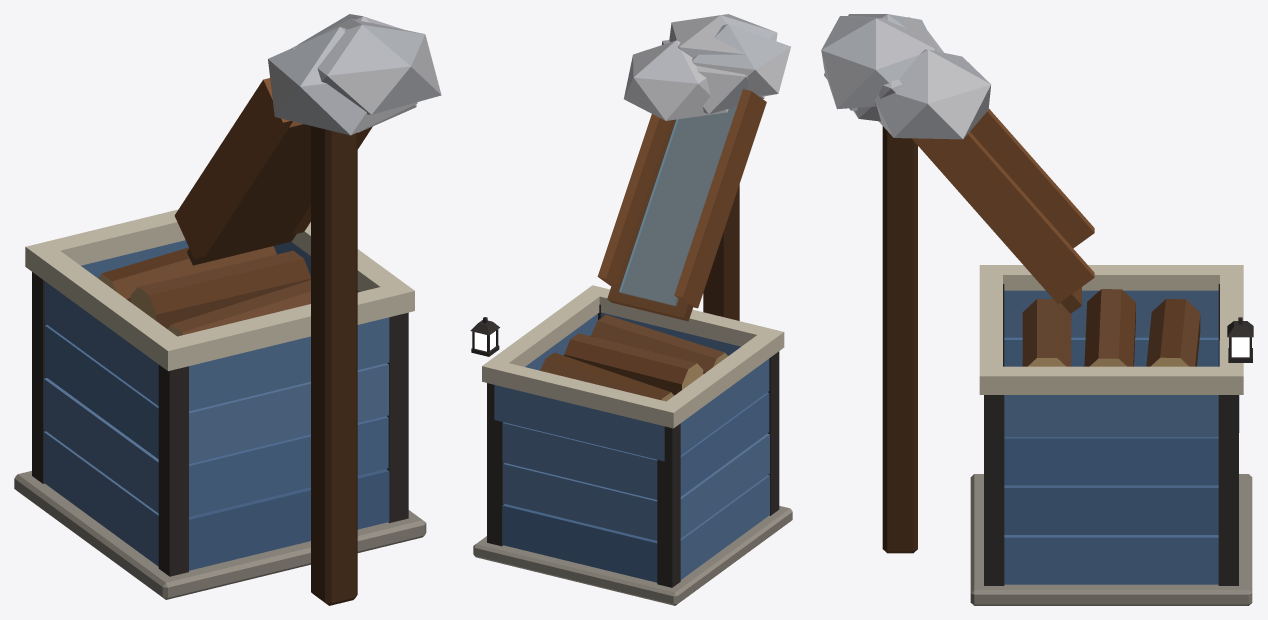
Rendered from SkyBin.glb.
The picture shows the model from 3 angles, left to right: view 1: azimuth 30°, elevation 25°; view 2: azimuth 150°, elevation 25°; view 3: azimuth 270°, elevation 25°; orthographic projection. The views are drawn at different scales.
Parts seen in each view (by area): view 1: Body, SkyBin; view 2: Body, SkyBin, FlumeWater; view 3: Body, SkyBin.
Part boxes in pixels (x1,y1,x2,y2): Body: (14,14,441,605); SkyBin: (43,240,389,570); Body: (470,14,792,605); SkyBin: (494,312,769,582); FlumeWater: (619,106,736,306); Body: (821,14,1253,605); SkyBin: (1004,290,1239,584).
Size of the model in its own units: 4.83 by 10.08 by 7.37.
